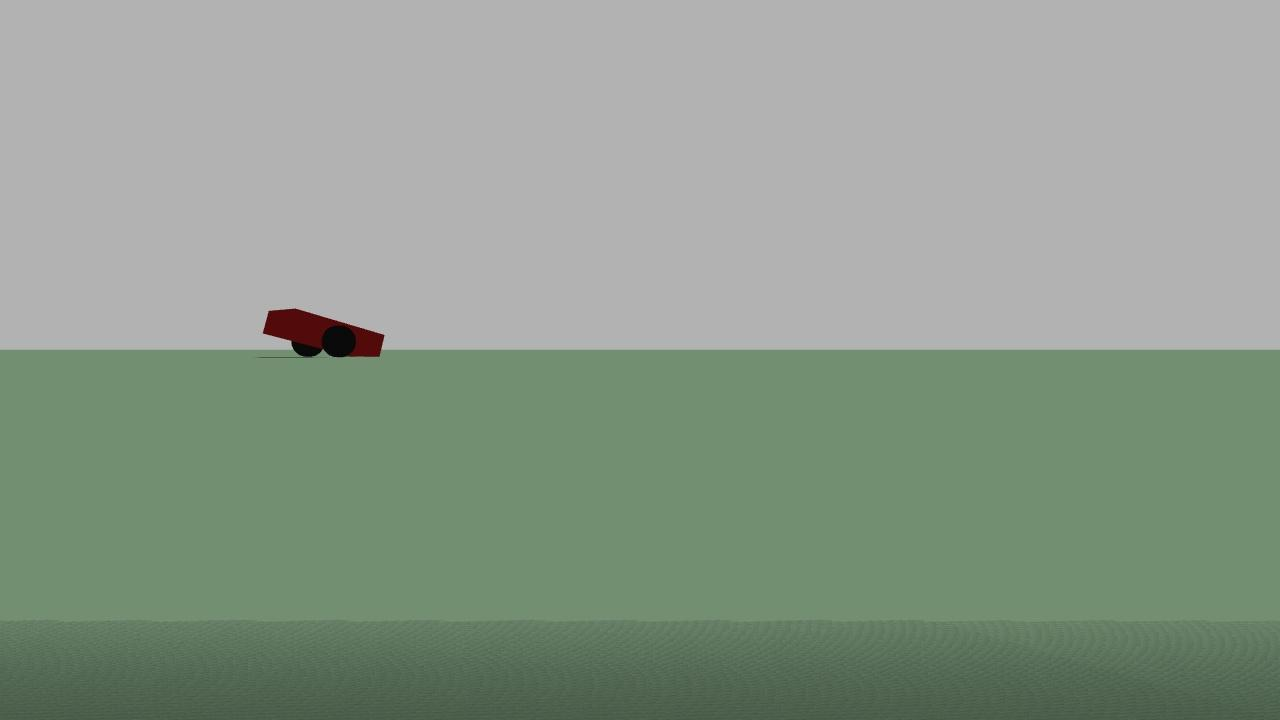ground_vehicle: (250, 297, 390, 375)
